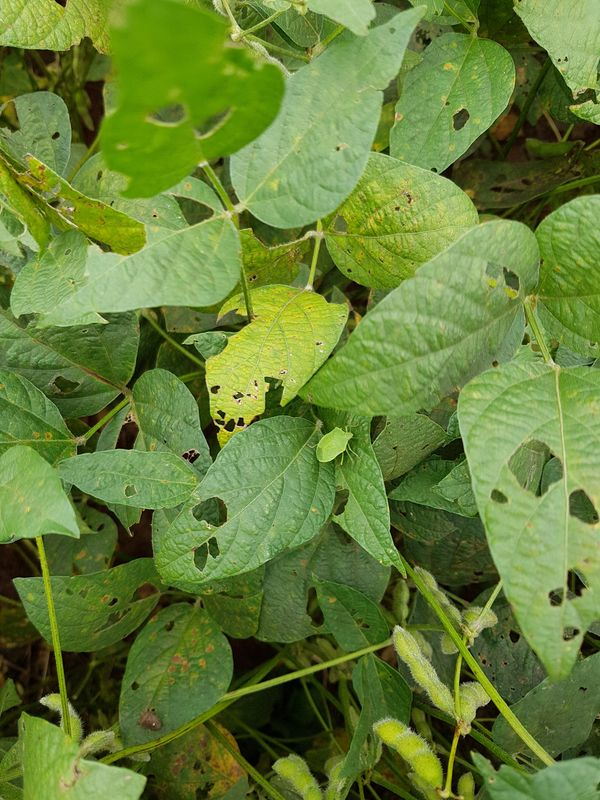Euschistus_heros_adulto: (127, 702, 171, 739)
Nezara_viridula_adulto: (295, 416, 370, 472)
